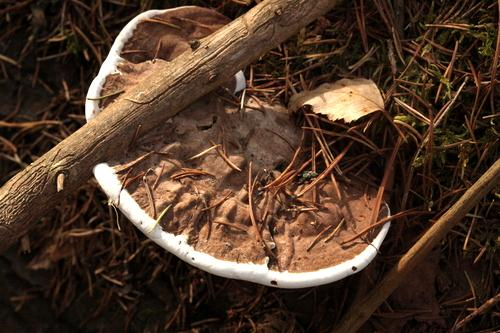Ganoderma - Fruit Body: (80, 4, 393, 300)
